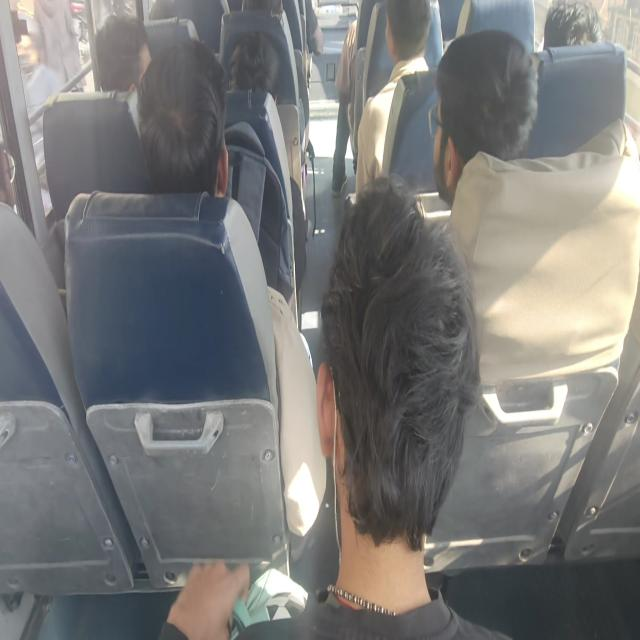person: (335, 192, 472, 568), (432, 38, 532, 203), (144, 58, 227, 202), (94, 9, 162, 98), (372, 0, 444, 71), (225, 24, 286, 98), (546, 0, 601, 53)
